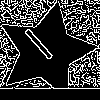I: (21, 26, 63, 69)
